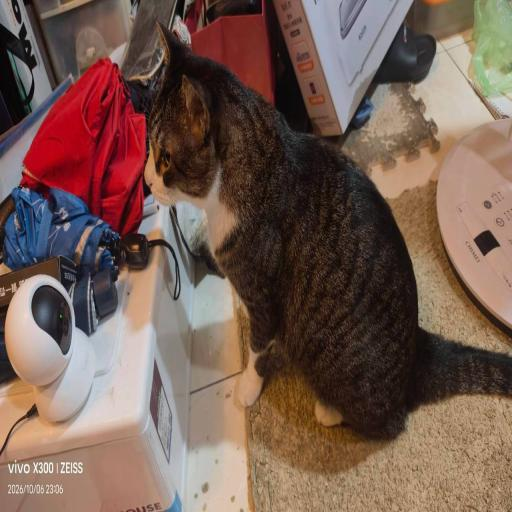cat: (147, 80, 424, 444)
